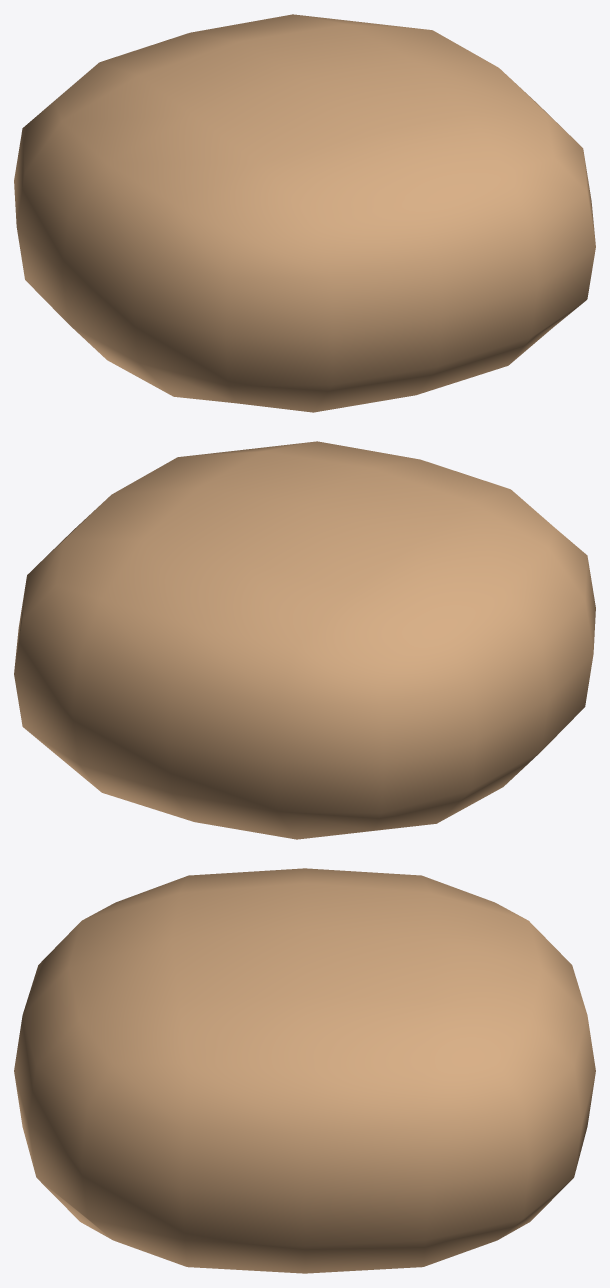
Rendered from bean-bag-chair-coffee-transformed.glb.
3 renders of one model, top to bottom at view 1: azimuth 30°, elevation 25°; view 2: azimuth 150°, elevation 25°; view 3: azimuth 270°, elevation 25°, orthographic. The views are drawn at different scales.
Parts seen in each view (by area): view 1: Cube 74; view 2: Cube 74; view 3: Cube 74.
Boxes of the visible parts, box(x1,y1,x2,y2) form: Cube 74: box(14, 14, 595, 412); Cube 74: box(14, 441, 595, 839); Cube 74: box(14, 868, 595, 1273).
Size of the model in its own units: 1.05 by 0.5622 by 1.05.
